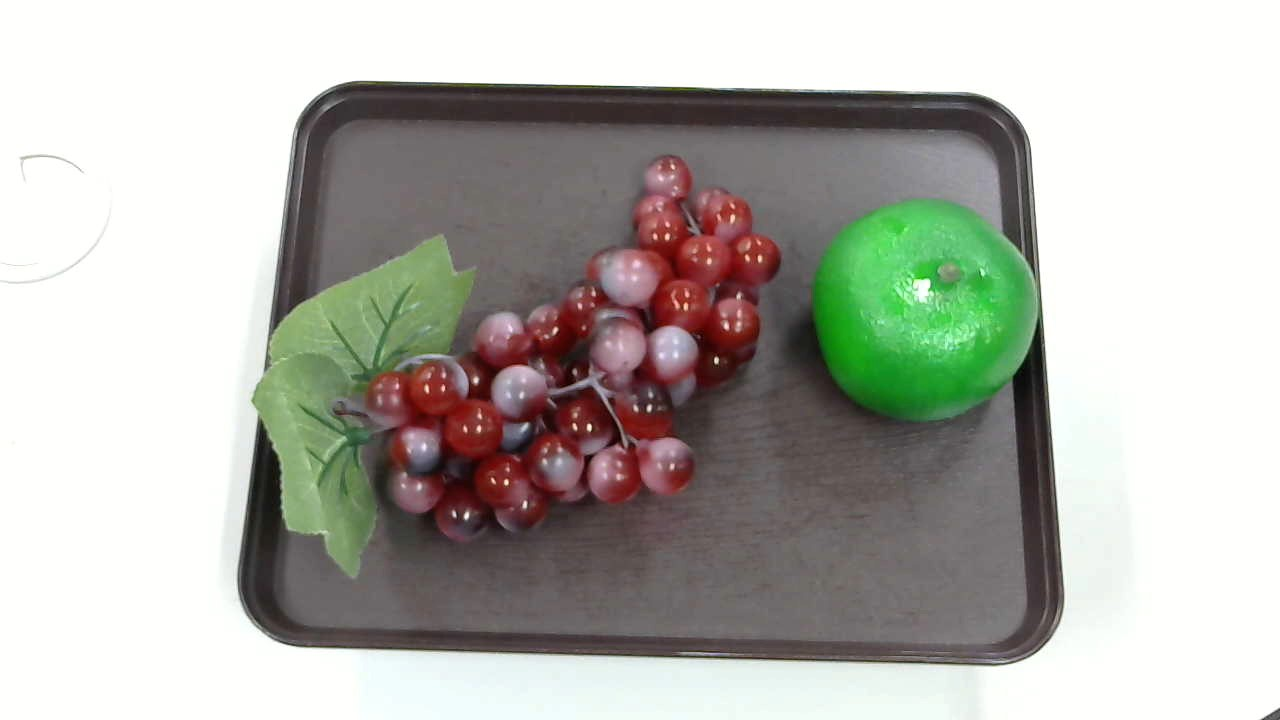grape: (256, 156, 783, 578)
green orange: (815, 202, 1040, 420)
